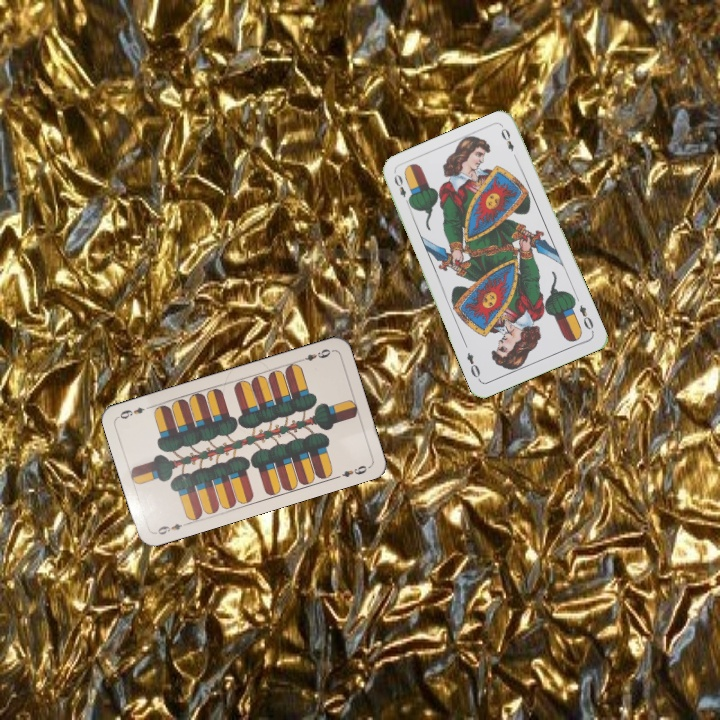E9: (295, 345, 335, 364), (151, 519, 191, 537)
EO: (390, 170, 413, 209), (575, 301, 596, 335)
